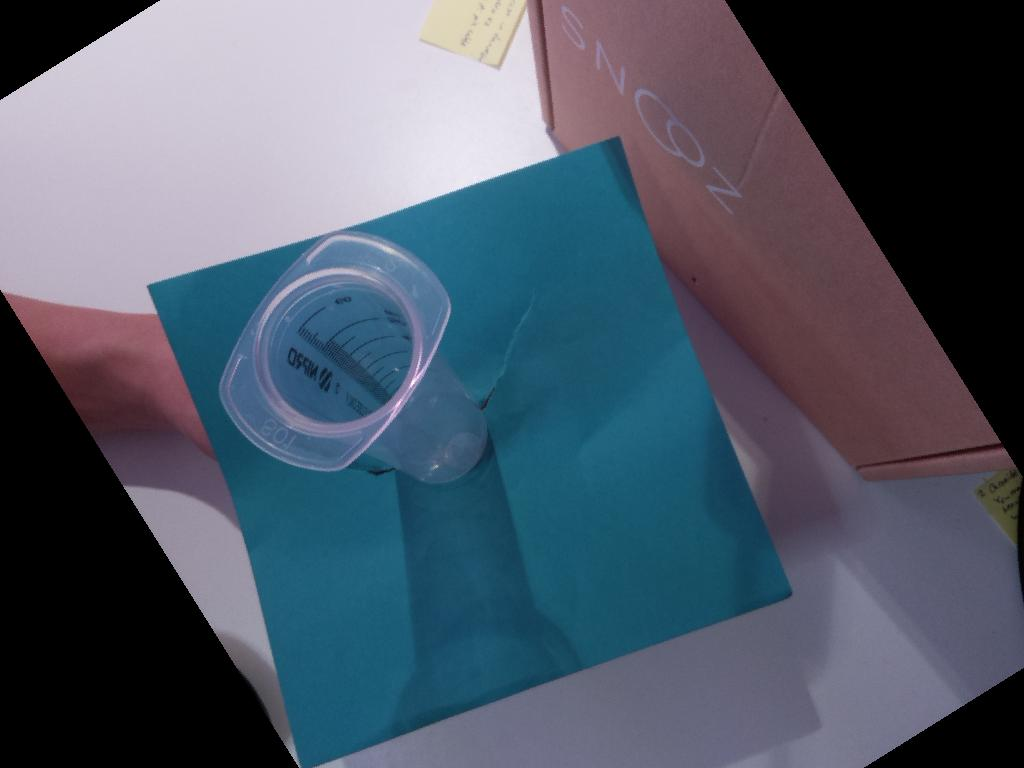clean: (219, 229, 454, 477)
